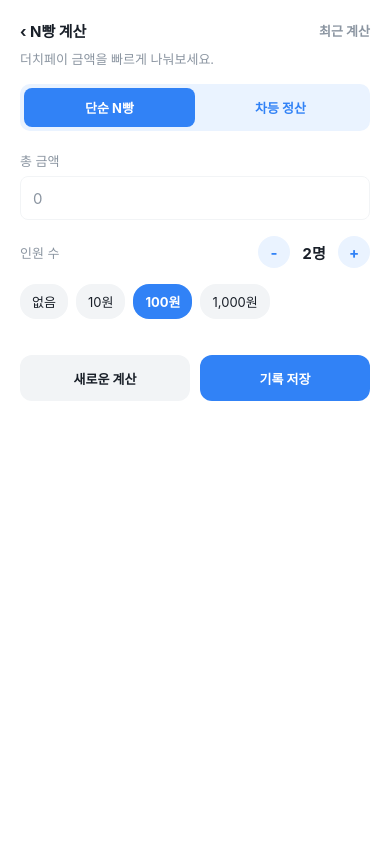
Test: SplitBillScreen › increments headcount via the stepper and recalculates
This screenshot has width=390, height=844.
Type "10000" into the field with test id "input-total-amount" at (195, 198), box [20, 176, 370, 220]
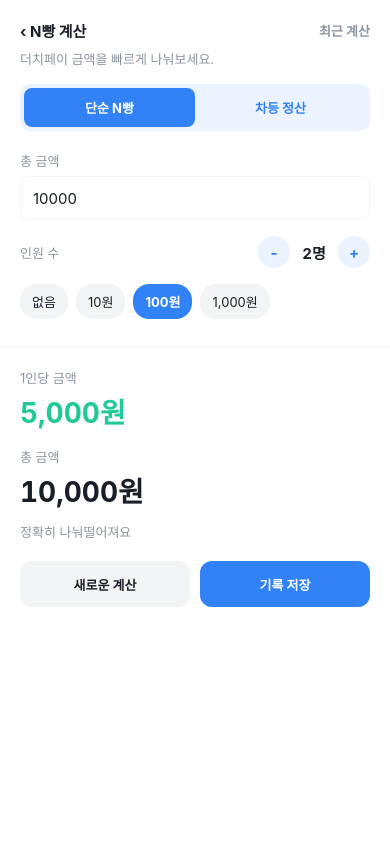
Click the element with test id "headcount-stepper-increment" at (354, 252), box [338, 236, 370, 268]
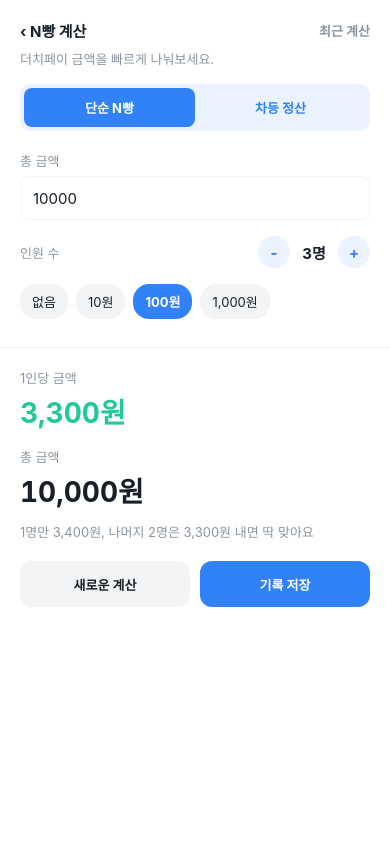
Expected: the text with test id "headcount-stepper-value" reads "3명", [302, 244, 326, 262]
